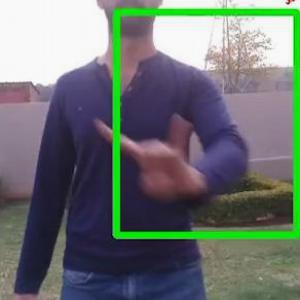takeoff-hand: (90, 110, 200, 203)
